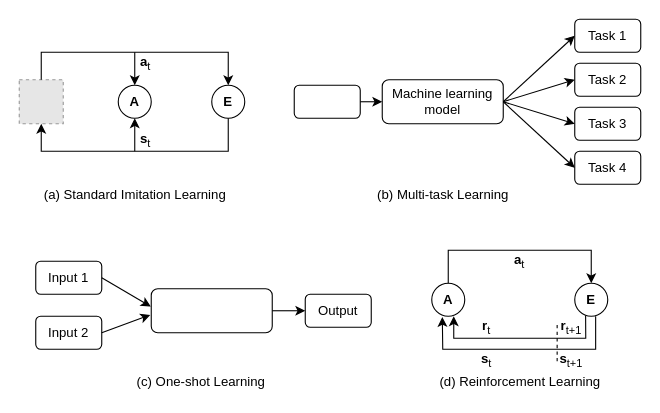
The diagram is 660 pixels wide and 413 high, and some of its shapes have lost their labels. Grey dashed boxes stand in for pictures. The centre of each missing label's shape, as x and y in pixels:
"Input" goes at point (326, 101).
"One-shot learning model" goes at point (211, 310).
